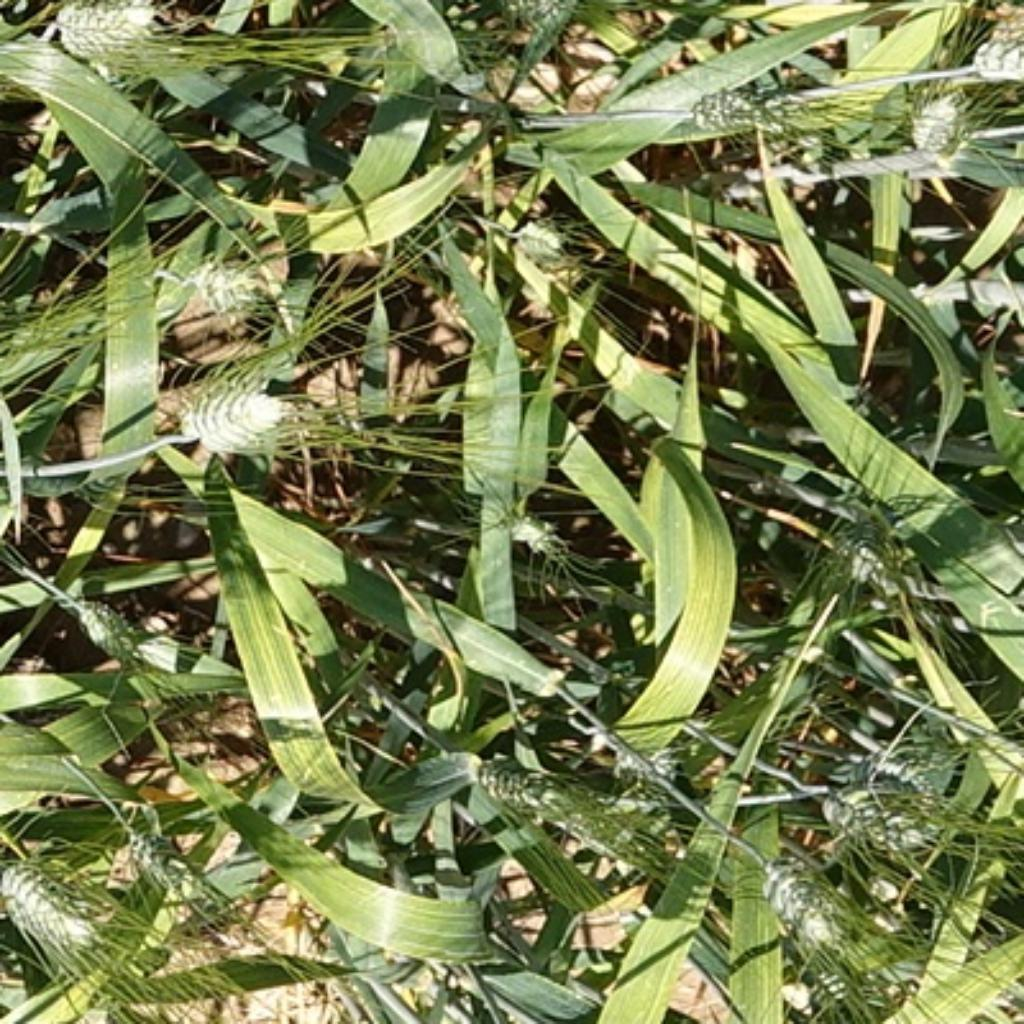0-0: (770, 465, 942, 650), (821, 762, 975, 870), (0, 847, 112, 960), (463, 748, 599, 832), (747, 839, 852, 947), (567, 794, 677, 879), (175, 379, 296, 450), (857, 731, 990, 795), (683, 81, 823, 141), (113, 826, 214, 906), (56, 576, 151, 660), (890, 84, 975, 168), (173, 249, 271, 317), (52, 0, 170, 55), (607, 708, 699, 777), (494, 499, 573, 560), (501, 0, 596, 46), (960, 28, 1024, 94), (504, 207, 573, 266)
